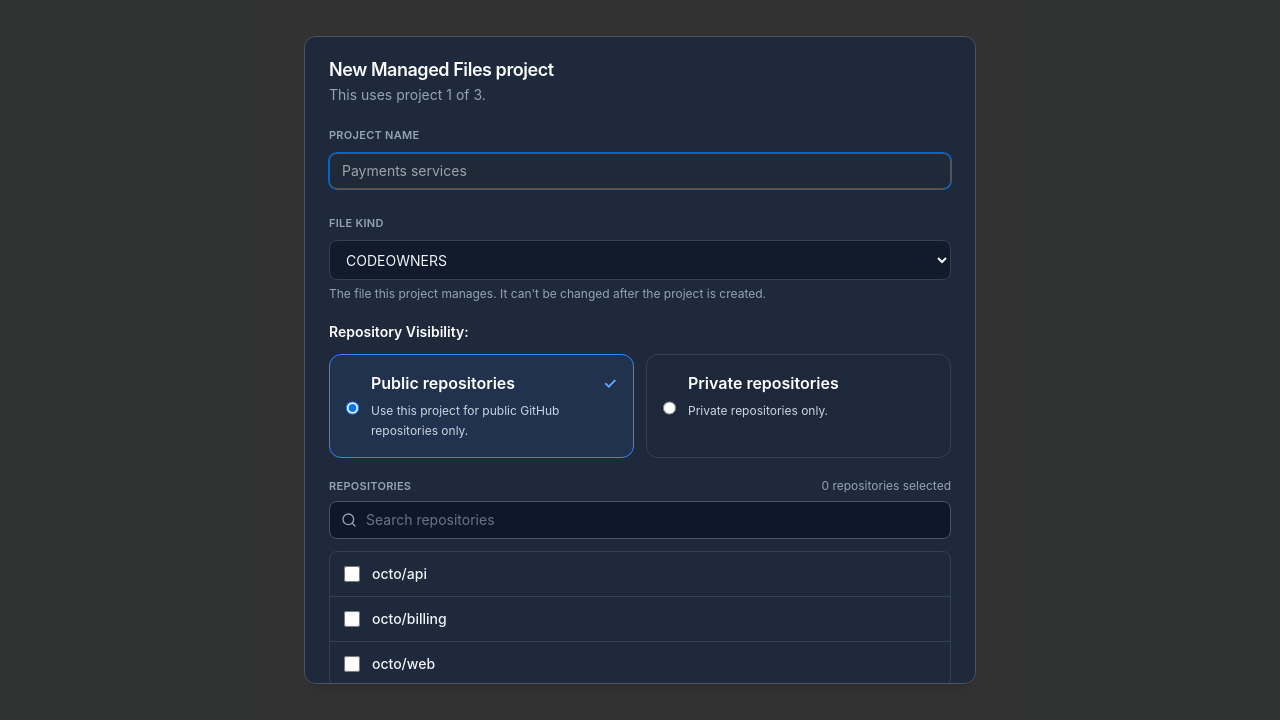
Test: NewManagedFilesProjectDialog › shows the server's reason when it refuses the project
Type "Owners" into the field with test id "managed-files-project-name" at (640, 171), box top-left (329, 153), bottom-right (951, 189)
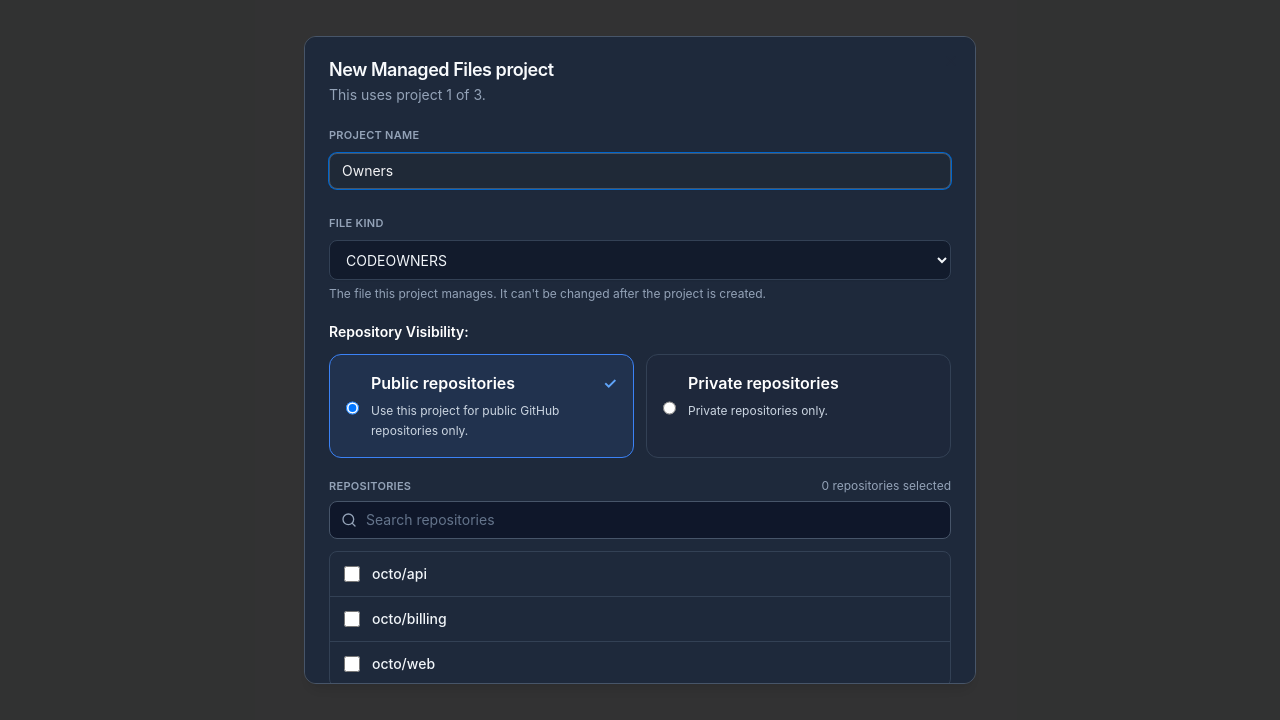
Click the checkbox with test id "available-checkbox-octo/api" at (352, 574), box top-left (344, 566), bottom-right (360, 582)
(page scrolled)
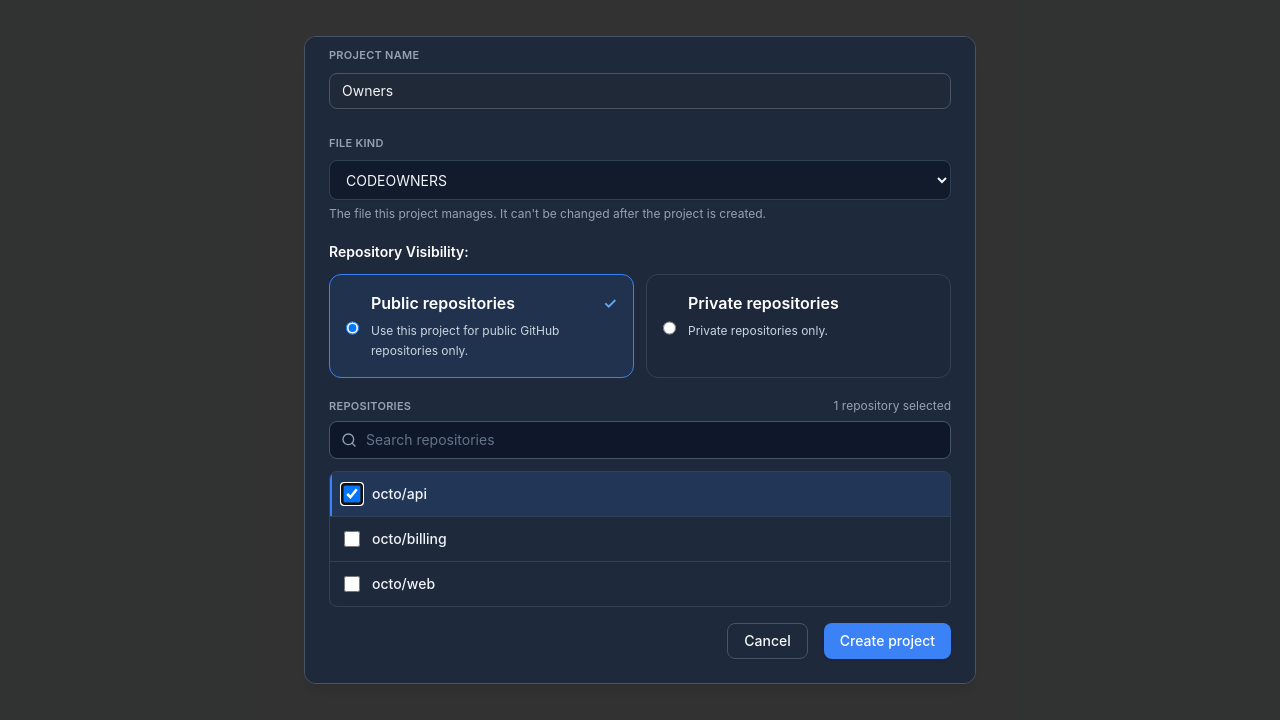
Click the button with test id "managed-files-create-button" at (887, 641), box top-left (824, 623), bottom-right (951, 659)
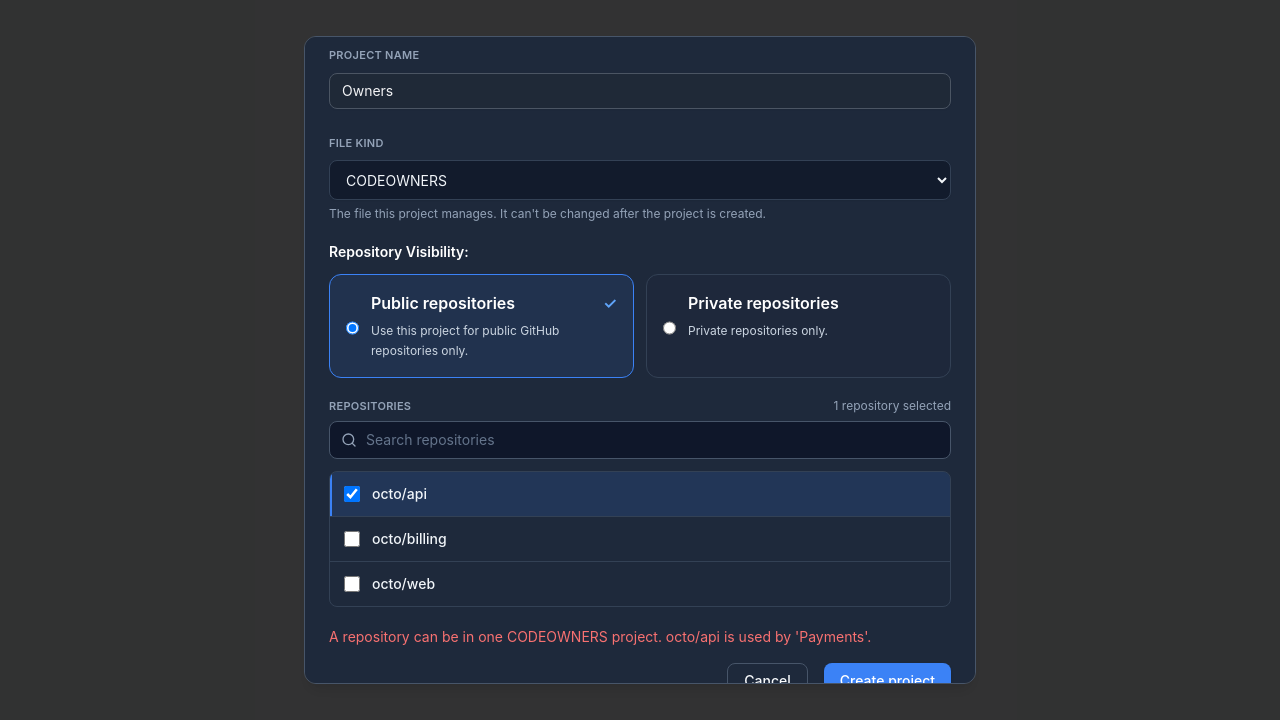
expect the message with test id "managed-files-create-error" reads "A repository can be in one CODEOWNERS project. octo/api is used by 'Payments'.": met, box top-left (329, 628), bottom-right (871, 645)
